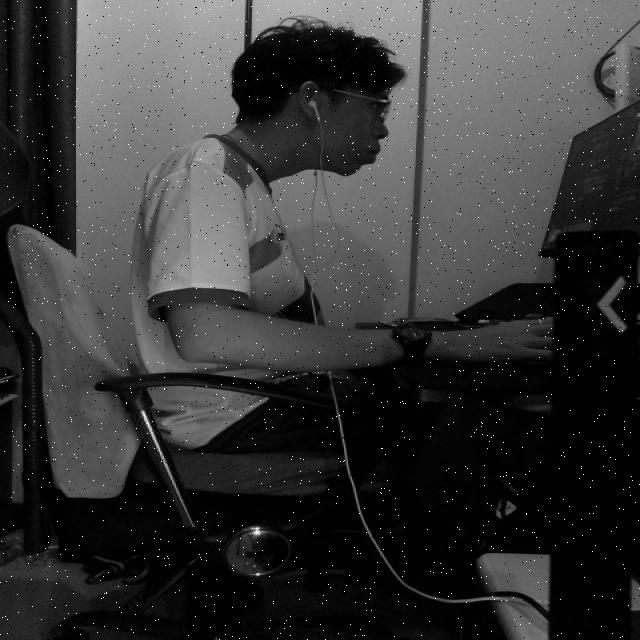Bad: (107, 8, 472, 480)
